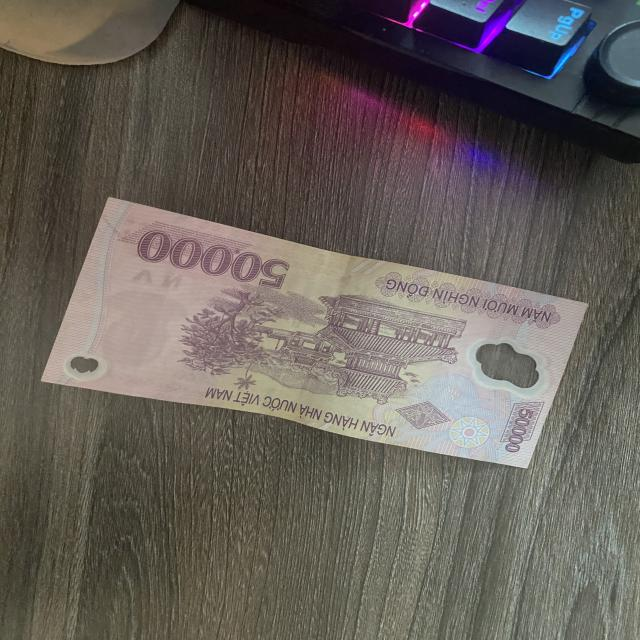50 000 VND: (38, 195, 590, 470)
